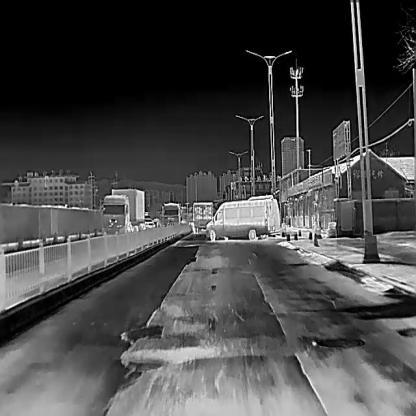car: (206, 198, 279, 240), (102, 188, 144, 236), (192, 201, 213, 233), (162, 203, 180, 225), (145, 217, 155, 227)
